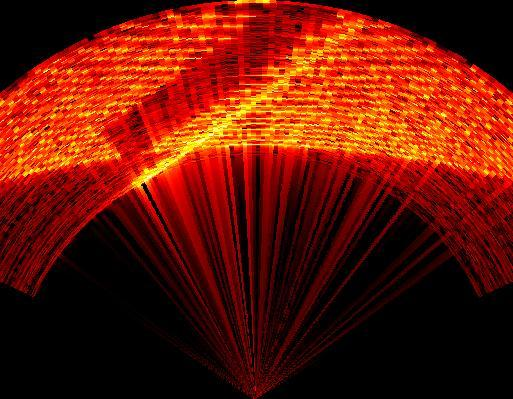pipe: (83, 0, 374, 190)
